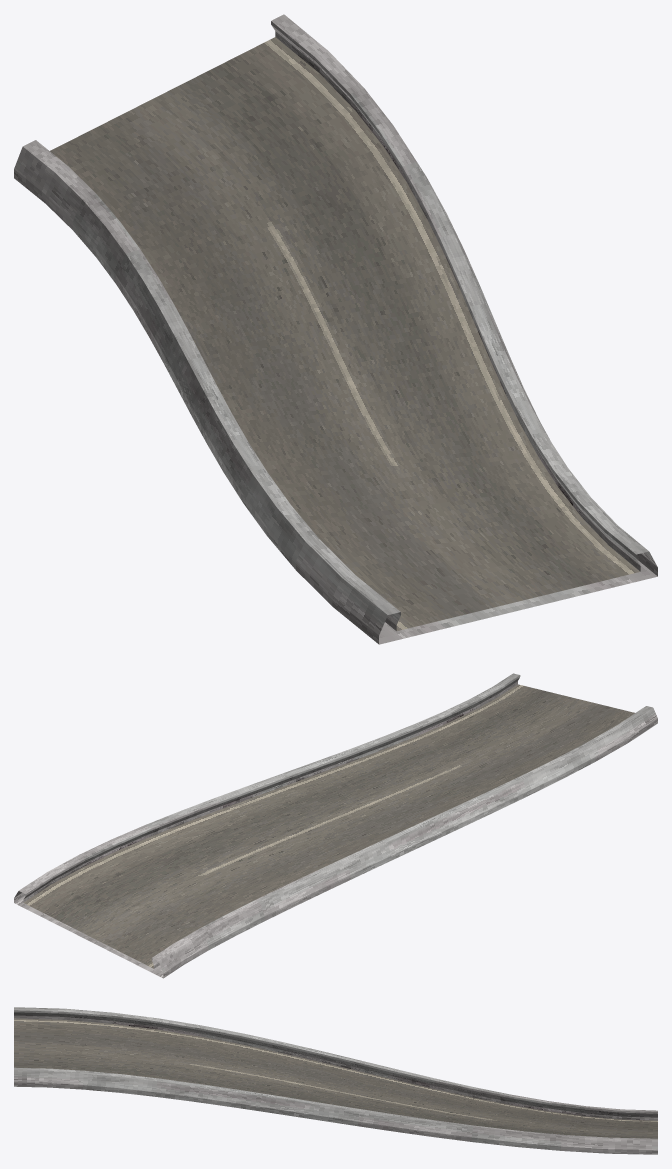
The model's file is road-Chicane-Flat-HalfBankedLeft-Down1-Right1-Size4.glb.
3 views of the same model, one above another, from view 1: azimuth 30°, elevation 25°; view 2: azimuth 150°, elevation 25°; view 3: azimuth 270°, elevation 25° (orthographic). The views are drawn at different scales.
Visible parts, largest first — view 1: road-Chicane-Flat-HalfBankedLeft-Down1-Right1-Size4; view 2: road-Chicane-Flat-HalfBankedLeft-Down1-Right1-Size4; view 3: road-Chicane-Flat-HalfBankedLeft-Down1-Right1-Size4.
Part boxes in pixels (x1=…): road-Chicane-Flat-HalfBankedLeft-Down1-Right1-Size4: x1=14, y1=14, x2=657, y2=644; road-Chicane-Flat-HalfBankedLeft-Down1-Right1-Size4: x1=14, y1=673, x2=657, y2=978; road-Chicane-Flat-HalfBankedLeft-Down1-Right1-Size4: x1=14, y1=1007, x2=657, y2=1154.
Size of the model in its own units: 2 by 0.3437 by 4.
Materials: 2 (2 with a texture image).
